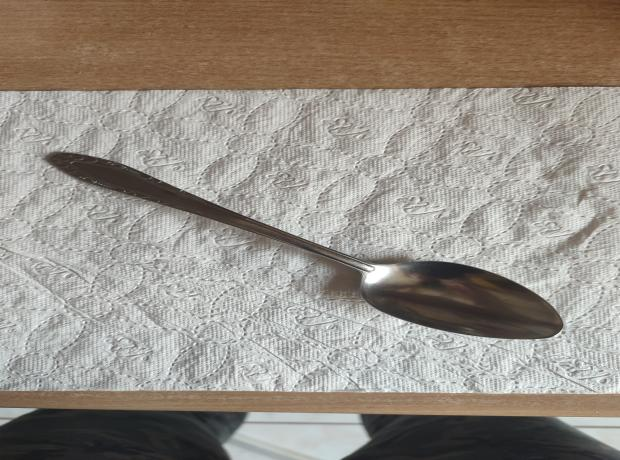metal: (44, 149, 563, 340)
